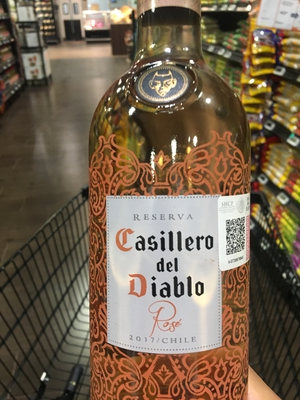casillero del diablo rose: (78, 22, 261, 394)
